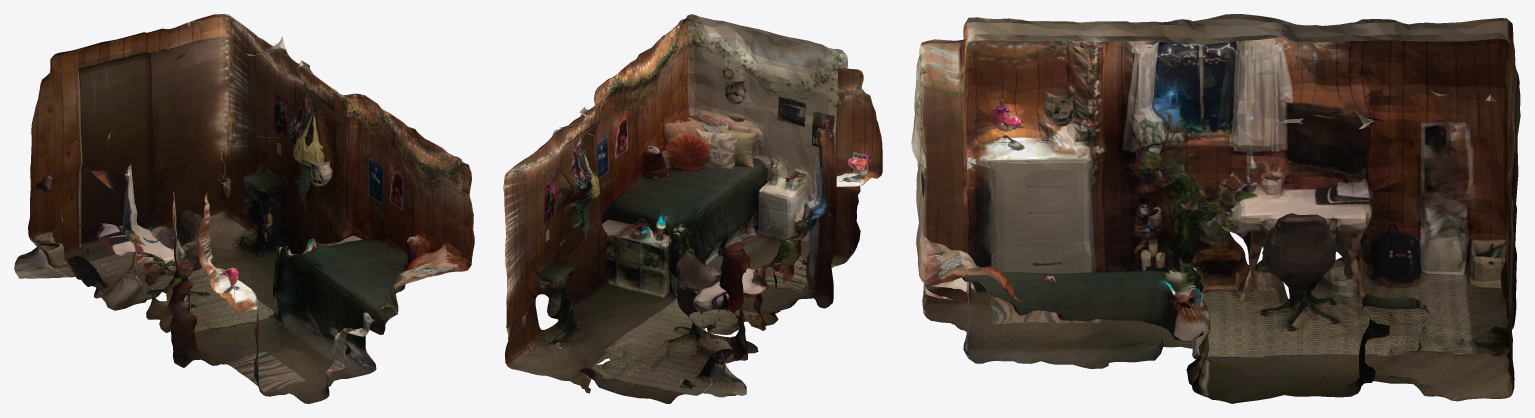
File: myRoom_v2.glb
3 views of the same model, side by side, from view 1: azimuth 30°, elevation 25°; view 2: azimuth 150°, elevation 25°; view 3: azimuth 270°, elevation 25° (orthographic). The views are drawn at different scales.
Parts seen in each view (by area): view 1: Mesh_0, Mesh_1; view 2: Mesh_0, Mesh_1; view 3: Mesh_0, Mesh_1.
Part boxes in pixels (left/top/right/bottom): Mesh_0: left=14, top=14, right=473, bottom=403; Mesh_1: left=95, top=99, right=474, bottom=382; Mesh_0: left=503, top=14, right=875, bottom=403; Mesh_1: left=506, top=31, right=882, bottom=393; Mesh_0: left=911, top=14, right=1520, bottom=401; Mesh_1: left=913, top=14, right=1514, bottom=403.
Size of the model in its own units: 49.38 by 41.98 by 75.12.
Materials: 2 (2 with a texture image).
